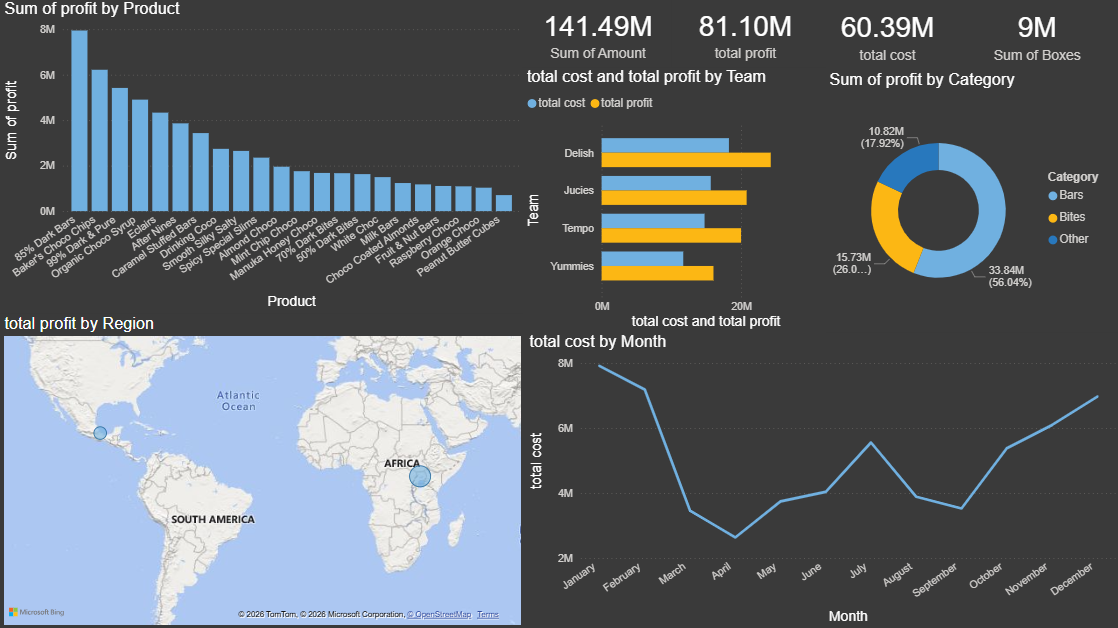

This screenshot's page, from the dashboard's own definition file:
{"tool":"powerbi","page":{"name":"Dashboard","canvas":[1280,720],"ordinal":6},"visuals":[{"type":"clusteredColumnChart","fields":{"Category":["products.Product"],"Y":["Sum(Merge1.profit)"]},"box":[0,0,599.6,359.2],"z":0},{"type":"card","fields":{"Values":["Sum(shipments.Amount)"]},"box":[599.7,0,167.4,78.2],"z":1000},{"type":"map","fields":{"Category":["locations.Region"],"Size":["Merge1.total profit"]},"box":[0,360,600,360],"z":2000},{"type":"lineChart","fields":{"Category":["Merge1.Shipdate.Variation.Date Hierarchy.Month"],"Y":["Merge1.total cost"]},"box":[600,381.7,680,338.3],"z":3000},{"type":"donutChart","fields":{"Category":["products.Category"],"Y":["Sum(Merge1.profit)"]},"box":[943.3,81.7,336.7,300],"z":4000},{"type":"card","fields":{"Values":["Merge1.total profit"]},"box":[766.7,0,170,78.3],"z":5000},{"type":"card","fields":{"Values":["Merge1.total cost"]},"box":[936.7,0,155,81.7],"z":6000},{"type":"clusteredBarChart","fields":{"Y":["Merge1.total cost","Merge1.total profit"],"Category":["people.Team"]},"box":[596.7,78.3,346.7,303.3],"z":7000},{"type":"card","fields":{"Values":["Sum(shipments.Boxes)"]},"box":[1091.7,0,188.3,81.7],"z":8000}]}

Visuals, with their boxes in screenshot pixels (x1, y1, x2, y2), scaled from the page's 1280x720 canvas onto the 1118x628 screenshot:
clusteredColumnChart - products.Product x Sum(Merge1.profit): [x1=0, y1=0, x2=524, y2=313]
card - Sum(shipments.Amount): [x1=524, y1=0, x2=670, y2=68]
map - locations.Region x Merge1.total profit: [x1=0, y1=314, x2=524, y2=627]
lineChart - Merge1.Shipdate.Variation.Date Hierarchy.Month x Merge1.total cost: [x1=524, y1=333, x2=1117, y2=627]
donutChart - products.Category x Sum(Merge1.profit): [x1=824, y1=71, x2=1117, y2=333]
card - Merge1.total profit: [x1=670, y1=0, x2=818, y2=68]
card - Merge1.total cost: [x1=818, y1=0, x2=954, y2=71]
clusteredBarChart - Merge1.total cost x Merge1.total profit: [x1=521, y1=68, x2=824, y2=333]
card - Sum(shipments.Boxes): [x1=954, y1=0, x2=1117, y2=71]
